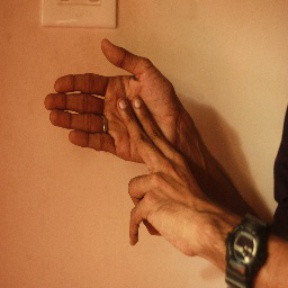N: (40, 36, 205, 244)
